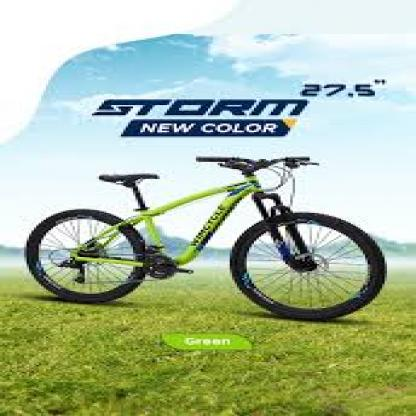Bike: (29, 154, 392, 322)
